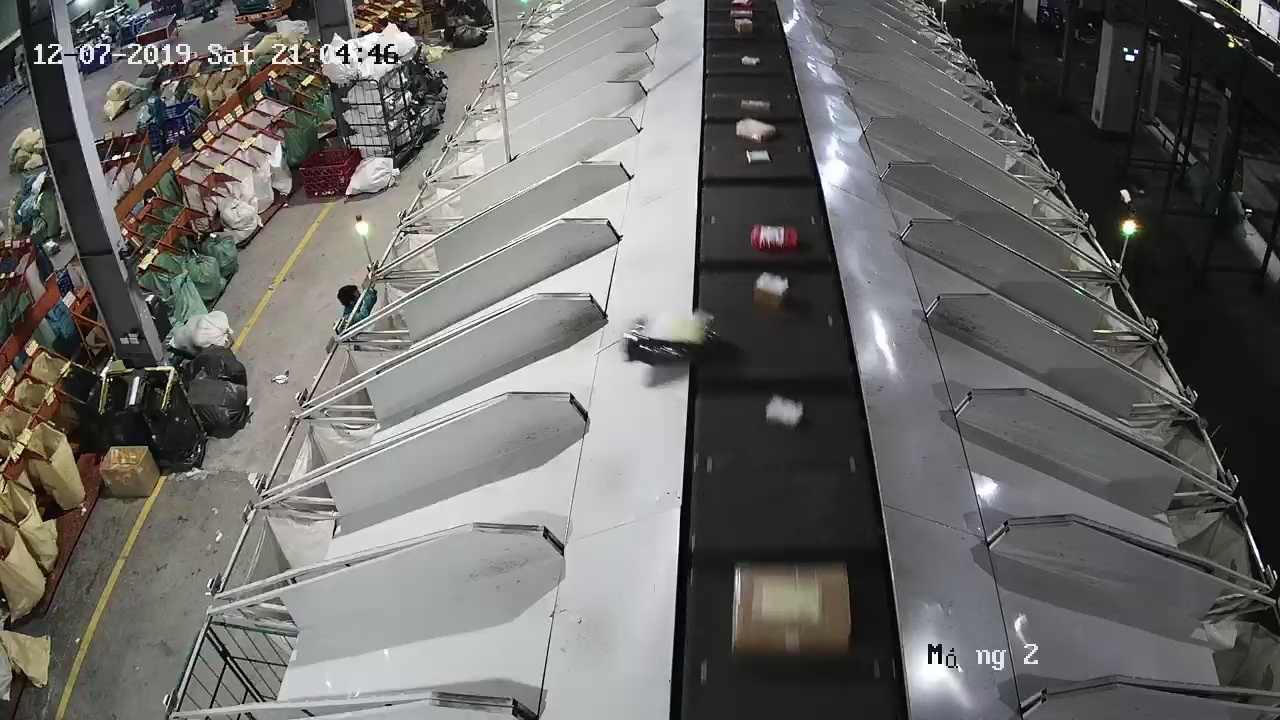parcel: (622, 307, 718, 367)
